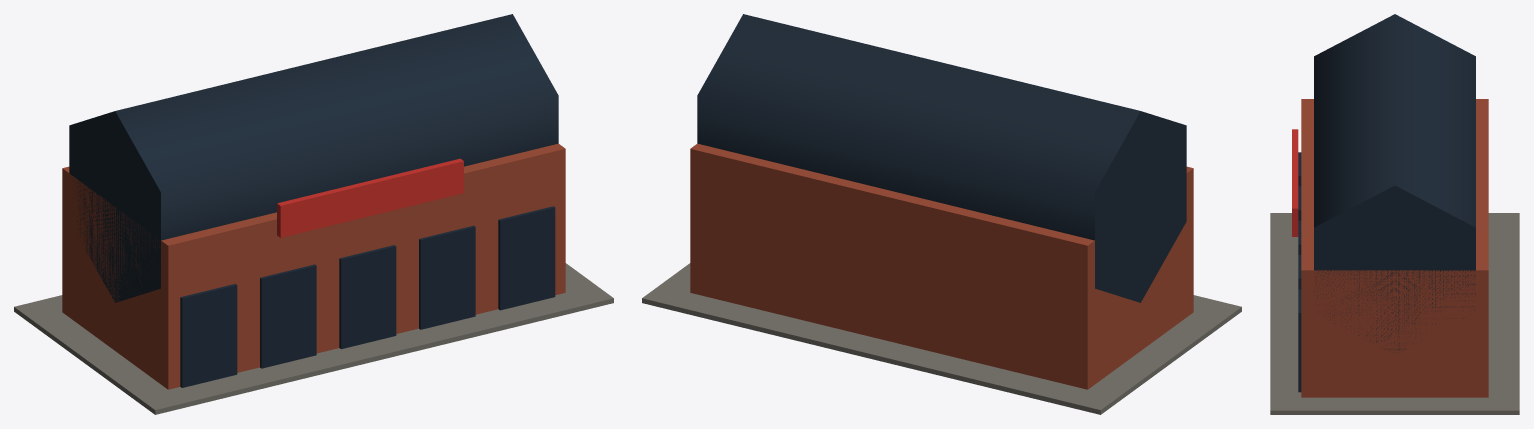
File: bld_special_market_a05_lod1.glb
The picture shows the model from 3 angles, left to right: view 1: azimuth 30°, elevation 25°; view 2: azimuth 150°, elevation 25°; view 3: azimuth 270°, elevation 25°; orthographic projection. The views are drawn at different scales.
Parts seen in each view (by area): view 1: body; view 2: body; view 3: body.
Part boxes in pixels (x1,y1,x2,y2): body: (14,14,613,414); body: (642,14,1241,414); body: (1270,14,1519,414).
Size of the model in its own units: 15 by 7.65 by 8.
